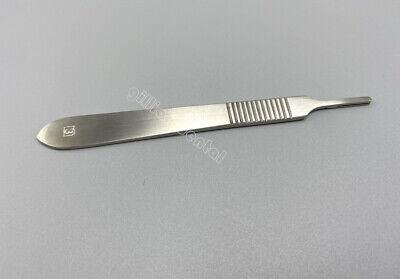Surgical blade: (35, 90, 377, 150)
